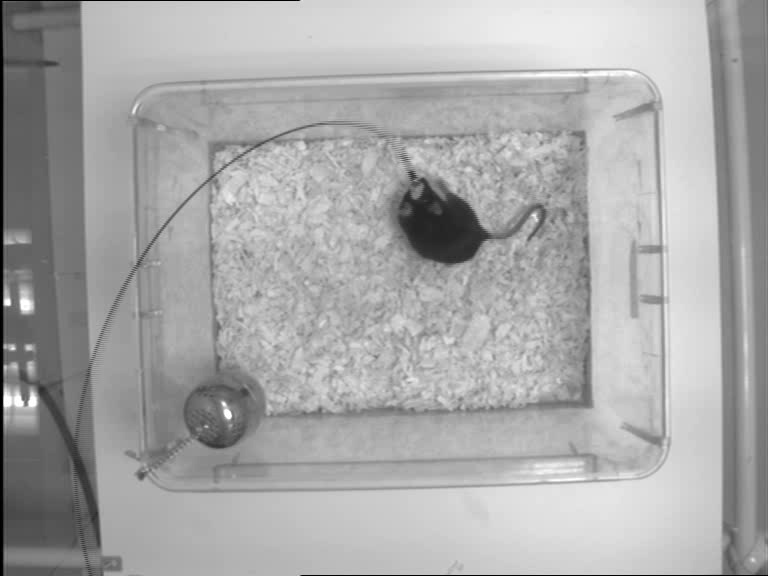mice: (395, 173, 550, 264)
